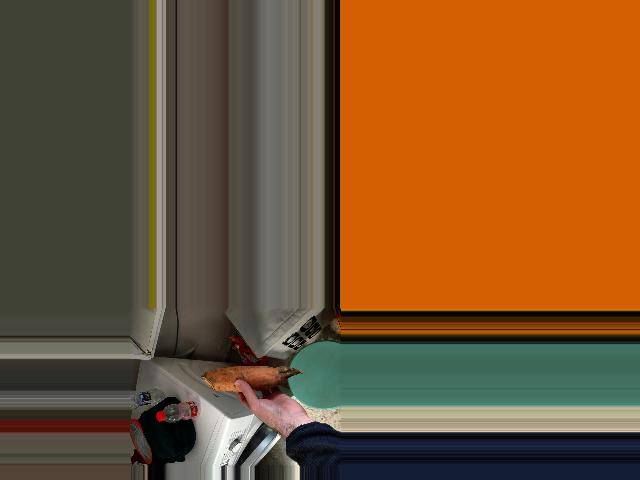sweet_potato: (208, 364, 303, 397)
